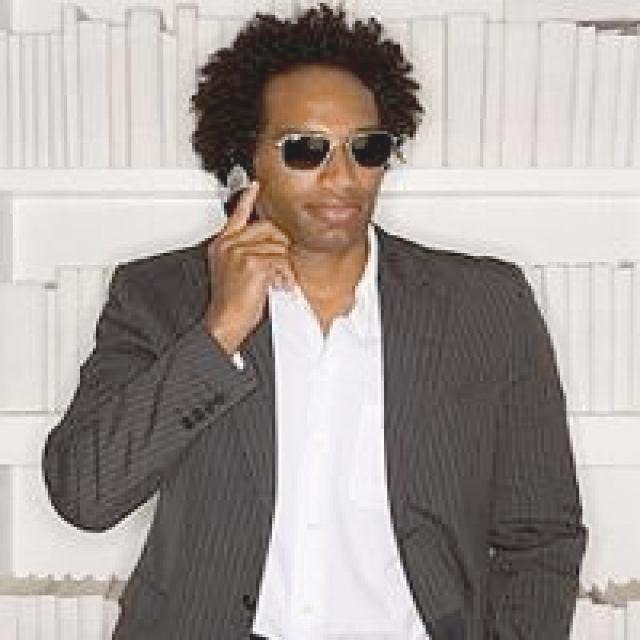no_vest: (78, 234, 605, 640)
